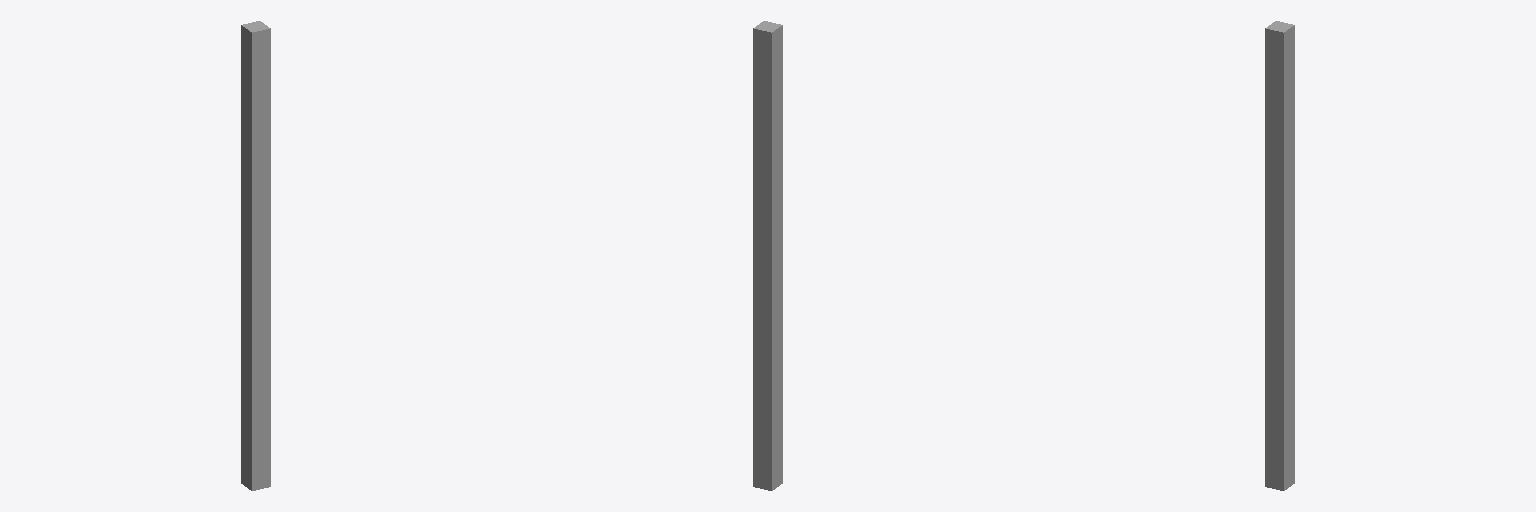
URDF robot description (calibration_pole):
<?xml version="1.0" ?>
<!-- Camera mounting pole. Origin at geometric center.
     Square pole: 0.03 x 0.03 x 0.7112 m -->
<robot name="calibration_pole">
  <link name="calibration_pole">
    <visual>
      <geometry><box size="0.03 0.03 0.7112"/></geometry>
      <material name="aluminum"><color rgba="0.7 0.7 0.7 1.0"/></material>
    </visual>
    <collision>
      <geometry><box size="0.03 0.03 0.7112"/></geometry>
    </collision>
  </link>
</robot>

--- What the picture shows (computed from the rendered views, not written in the file) ---
The picture shows the robot from 3 angles, left to right: view 1: azimuth 30°, elevation 25°; view 2: azimuth 150°, elevation 25°; view 3: azimuth 330°, elevation 25°; orthographic projection.
Model calibration_pole with 1 links and 0 joints (none), rooted at calibration_pole, posed all joints at 0.
Visible links, largest first — view 1: calibration_pole; view 2: calibration_pole; view 3: calibration_pole.
Link boxes in pixels (x1,y1,x2,y2): calibration_pole: (241, 21, 270, 490); calibration_pole: (753, 21, 782, 490); calibration_pole: (1265, 21, 1294, 490).
Size in the robot's own frame: 0.03 by 0.03 by 0.7112 metres.
Geometry: primitives only (box / cylinder / sphere), no mesh files.
